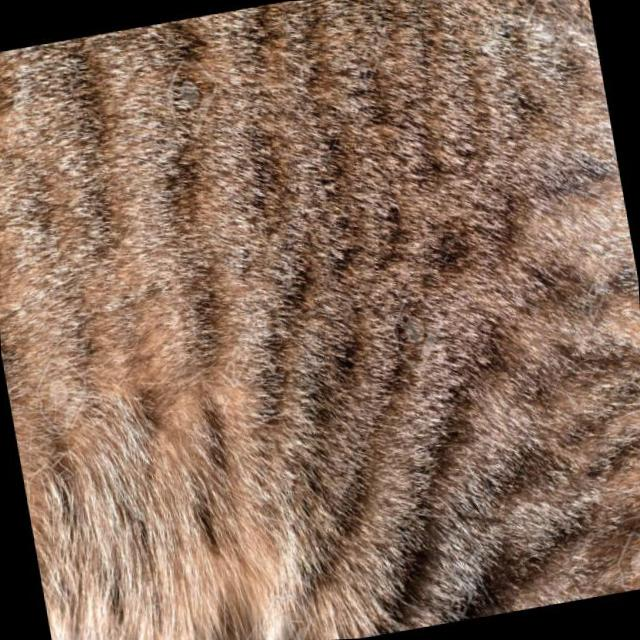Healthy skin: (211, 0, 640, 487), (36, 301, 295, 640), (0, 27, 226, 308)
